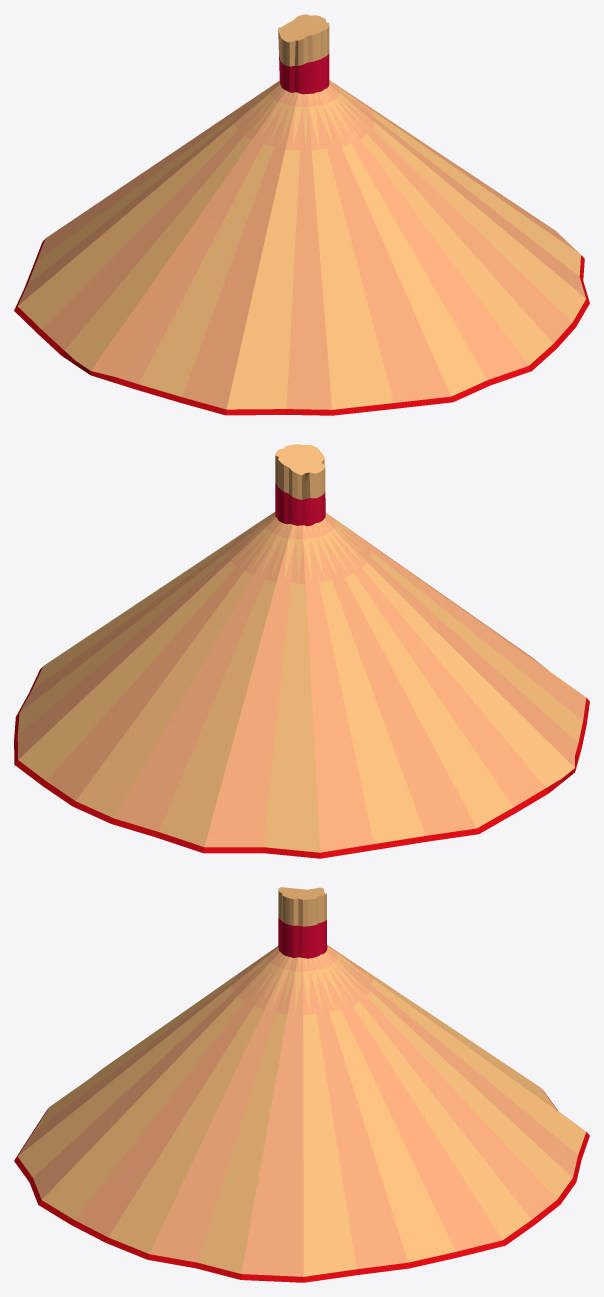
Rendered from hat.glb.
3 renders of one model, top to bottom at view 1: azimuth 30°, elevation 25°; view 2: azimuth 150°, elevation 25°; view 3: azimuth 270°, elevation 25°, orthographic. The views are drawn at different scales.
Visible parts, largest first — view 1: Cone; view 2: Cone; view 3: Cone.
Boxes of the visible parts, box(x1,y1,x2,y2) form: Cone: box(14, 14, 589, 415); Cone: box(14, 444, 589, 858); Cone: box(14, 887, 589, 1282).
Bounding box in the file's own units: 0.4097 × 0.2139 × 0.4137.
